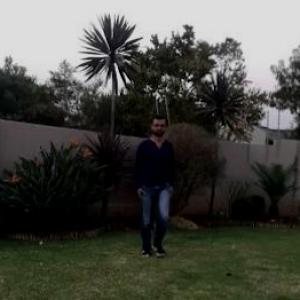follow: (134, 118, 173, 253)
